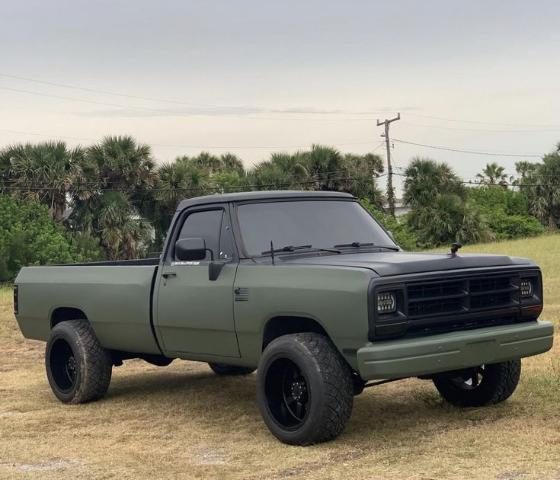pickup-truck: (13, 189, 555, 445)
